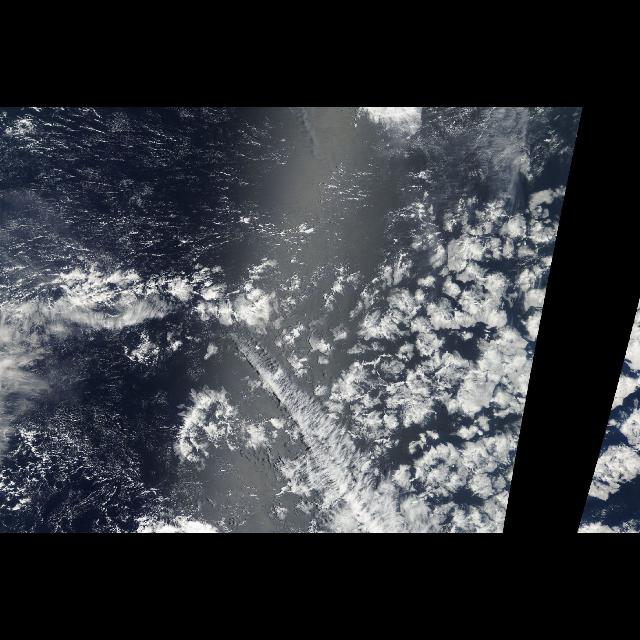Fish: (218, 324, 422, 530)
Flower: (235, 184, 568, 534), (576, 301, 638, 533)
Gravel: (9, 386, 214, 528)
Sugar: (4, 111, 372, 285)
